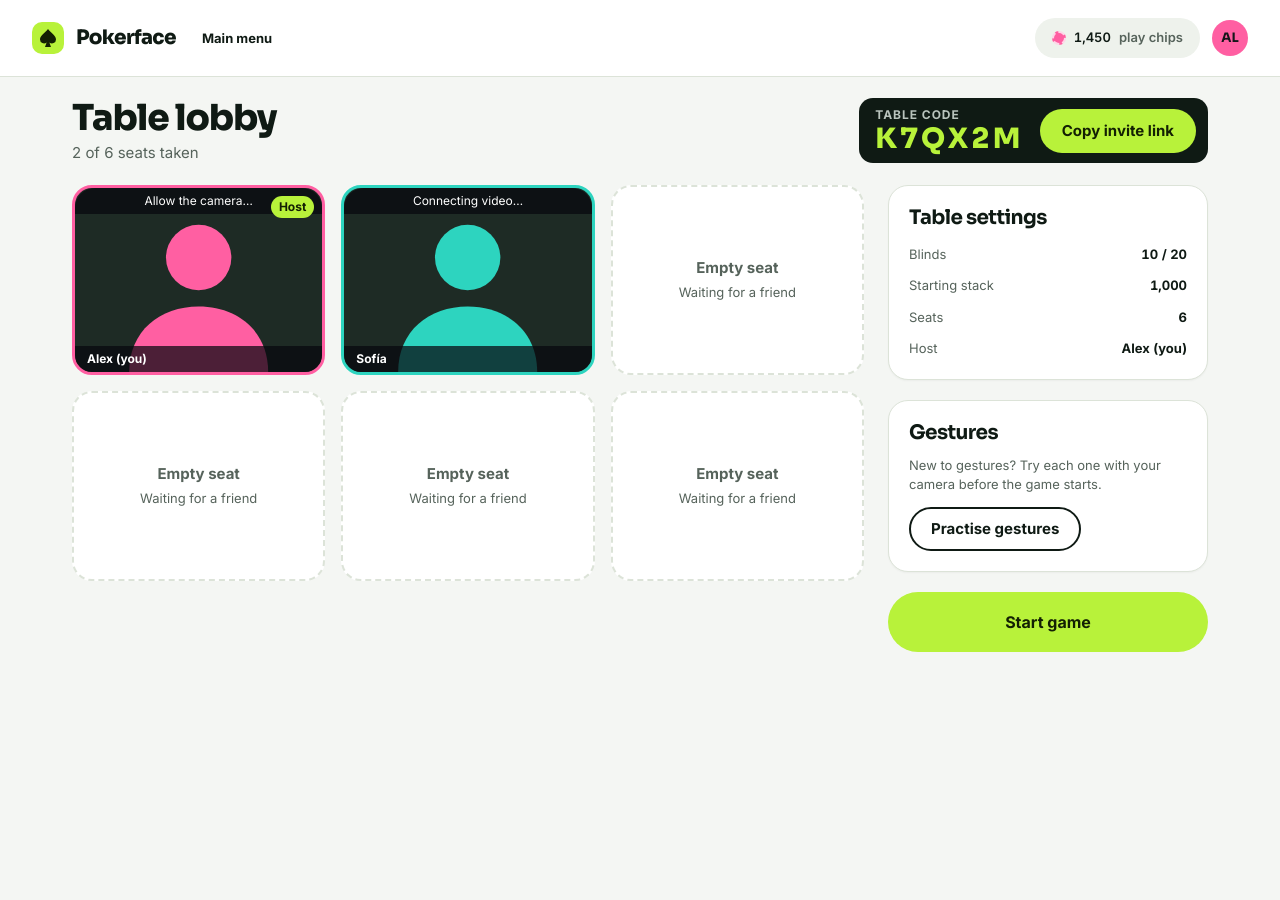
Test case: WaitingRoomPage › explains why the game could not start
Click the button "Start game".
click(1048, 622)  # box [888, 592, 1208, 652]
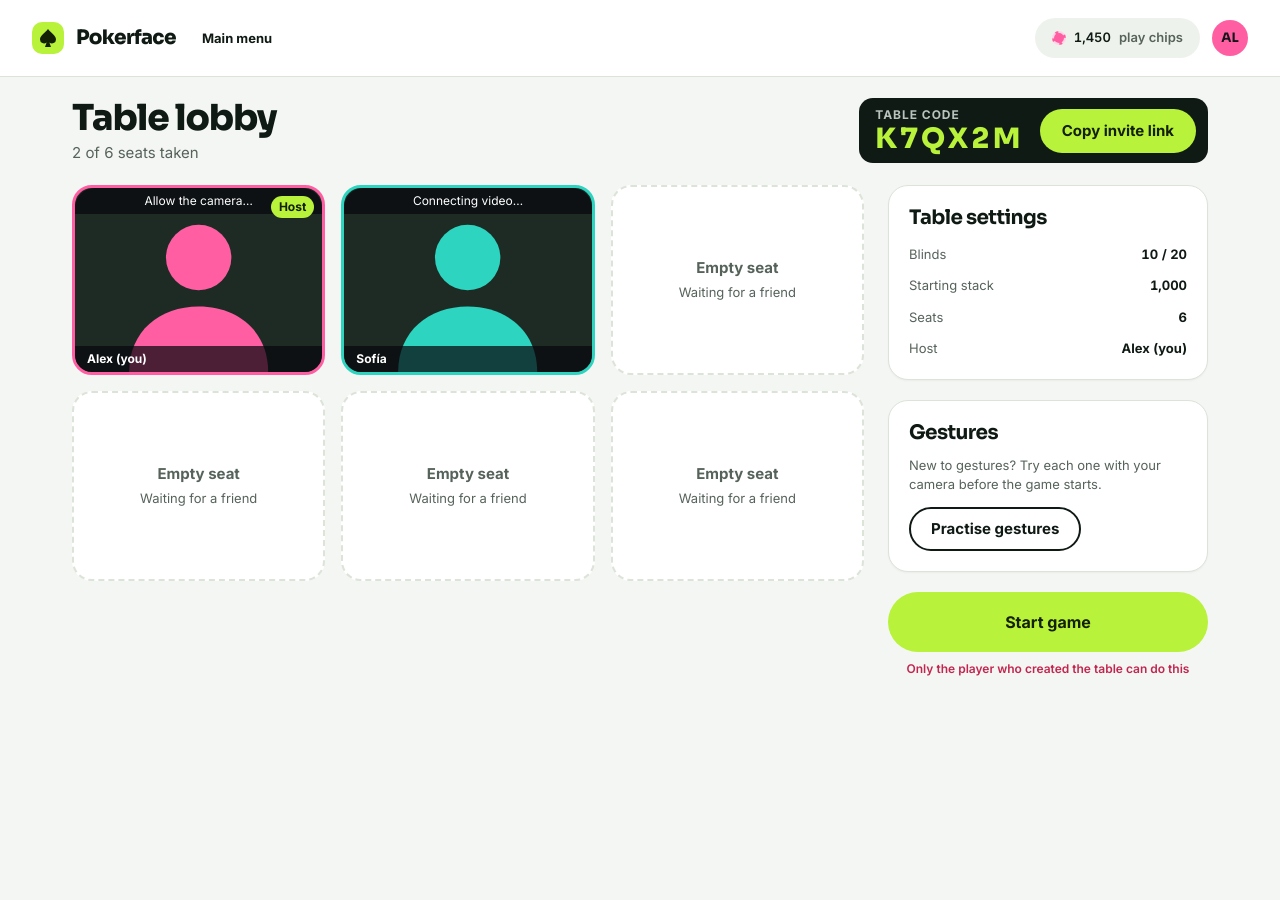
Expected: the message "Only the player who created the table can do this" is shown, [888, 660, 1208, 678]
